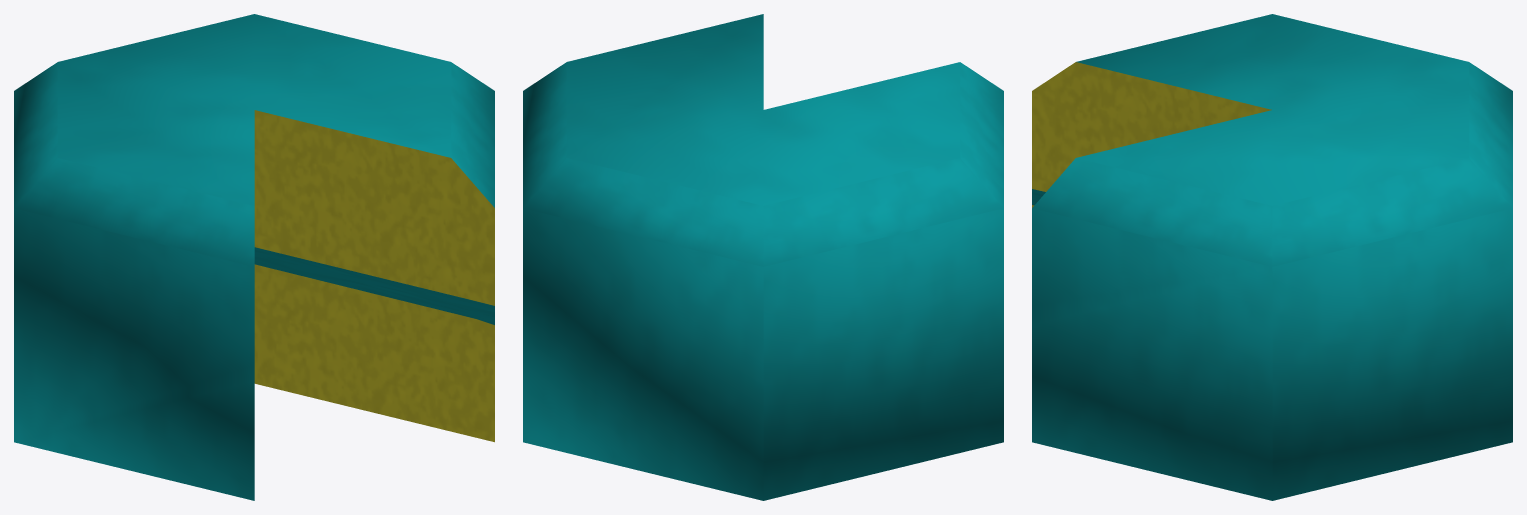
The model's file is Cake_Sliced_F.FBX.
The picture shows the model from 3 angles, left to right: view 1: azimuth 30°, elevation 25°; view 2: azimuth 150°, elevation 25°; view 3: azimuth 270°, elevation 25°; orthographic projection.
Visible parts, largest first — view 1: Cake_E; view 2: Cake_E; view 3: Cake_E.
Boxes of the visible parts, x1,y1,x2,y2 form: Cake_E: (14,14,494,500); Cake_E: (523,14,1003,500); Cake_E: (1032,14,1512,500).
Size of the model in its own units: 102 by 55.58 by 88.51.
